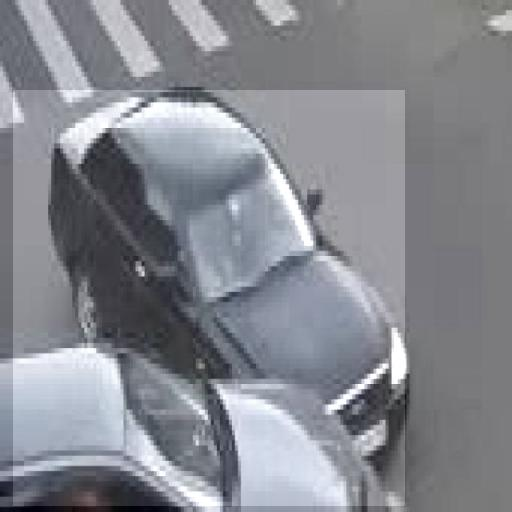小汽车撞小汽车: (13, 90, 405, 506)
